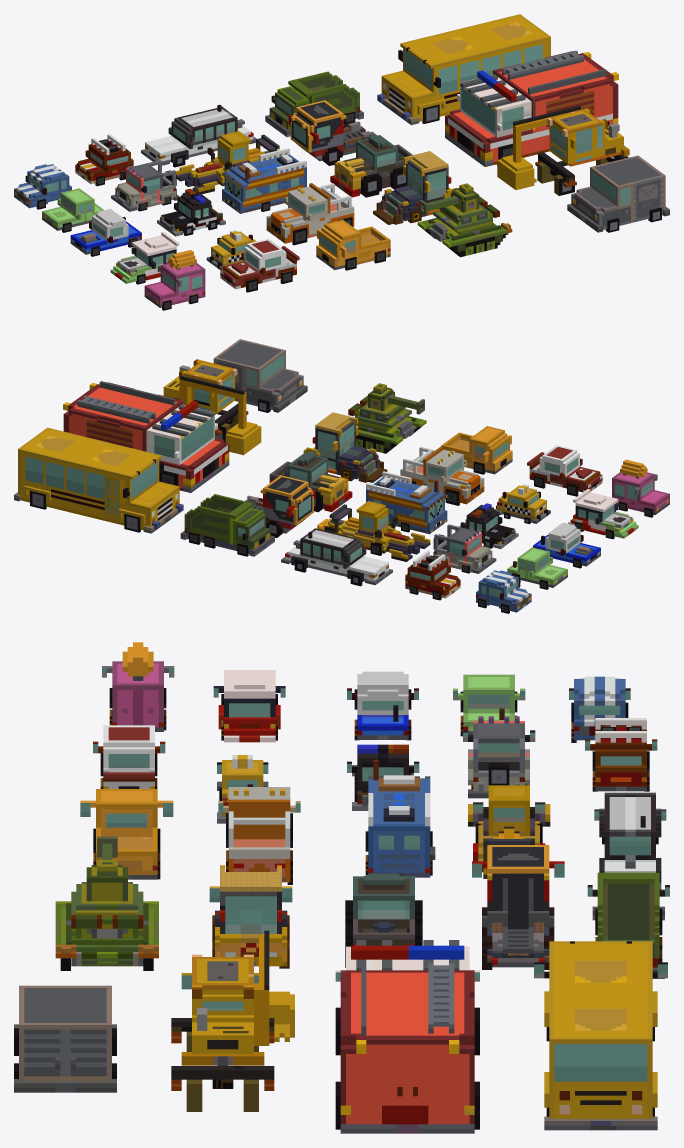
Rendered from 24_Simple_Blocky_Cars_Pack.fbx.
3 views of the same model, one above another, from view 1: azimuth 30°, elevation 25°; view 2: azimuth 150°, elevation 25°; view 3: azimuth 270°, elevation 25° (orthographic). The views are drawn at different scales.
Visible parts, largest first — view 1: Fire_Truck_Car_Body, Bus_Car_Body, Excavator_Car_Body, Mail_Car_Body, Camping_Truck_Body, Tank_Car_Body, Limousine_Car_Body, Tractor_Car_Body, Jeep_Car_Body_2, Tir_Car_Body, Garbage_Truck_Car_Body, Bolid_Car_Body (+13 smaller); view 2: Bus_Car_Body, Fire_Truck_Car_Body, Excavator_Car_Body, Mail_Car_Body, Garbage_Truck_Car_Body, Limousine_Car_Body, Camping_Truck_Body, Bolid_Car_Body, Tractor_Car_Body, Tank_Car_Body, Jeep_Car_Body_2, Tir_Car_Body (+13 smaller); view 3: Fire_Truck_Car_Body, Bus_Car_Body, Excavator_Car_Body, Mail_Car_Body, Tank_Car_Body, Tir_Car_Body, Camping_Truck_Body, Tractor_Car_Body, Jeep_Car_Body_2, Sand_Truck_Car_Body, Garbage_Truck_Car_Body, Limousine_Car_Body (+12 smaller).
Boxes of the visible parts, left/top/right/bottom form: Fire_Truck_Car_Body: left=445, top=50, right=618, bottom=166; Bus_Car_Body: left=377, top=14, right=550, bottom=125; Excavator_Car_Body: left=497, top=105, right=629, bottom=189; Mail_Car_Body: left=567, top=155, right=669, bottom=232; Camping_Truck_Body: left=222, top=148, right=306, bottom=213; Tank_Car_Body: left=417, top=183, right=512, bottom=247; Limousine_Car_Body: left=141, top=104, right=256, bottom=165; Tractor_Car_Body: left=373, top=151, right=456, bottom=224; Jeep_Car_Body_2: left=266, top=183, right=354, bottom=243; Tir_Car_Body: left=288, top=100, right=374, bottom=161; Garbage_Truck_Car_Body: left=265, top=71, right=363, bottom=136; Bolid_Car_Body: left=176, top=131, right=285, bottom=194; Bus_Car_Body: left=14, top=427, right=183, bottom=533; Fire_Truck_Car_Body: left=63, top=381, right=229, bottom=492; Excavator_Car_Body: left=163, top=359, right=261, bottom=455; Mail_Car_Body: left=213, top=339, right=307, bottom=412; Garbage_Truck_Car_Body: left=180, top=494, right=274, bottom=556; Limousine_Car_Body: left=281, top=528, right=392, bottom=585; Camping_Truck_Body: left=366, top=471, right=447, bottom=534; Bolid_Car_Body: left=316, top=501, right=430, bottom=561; Tractor_Car_Body: left=303, top=412, right=387, bottom=482; Tank_Car_Body: left=348, top=383, right=426, bottom=444; Jeep_Car_Body_2: left=400, top=446, right=484, bottom=504; Tir_Car_Body: left=245, top=475, right=315, bottom=533; Fire_Truck_Car_Body: left=335, top=940, right=479, bottom=1133; Bus_Car_Body: left=534, top=941, right=667, bottom=1130; Excavator_Car_Body: left=171, top=930, right=294, bottom=1090; Mail_Car_Body: left=14, top=985, right=116, bottom=1092; Tank_Car_Body: left=55, top=836, right=158, bottom=966; Tir_Car_Body: left=472, top=845, right=564, bottom=967; Camping_Truck_Body: left=368, top=759, right=435, bottom=877; Tractor_Car_Body: left=209, top=865, right=292, bottom=966; Jeep_Car_Body_2: left=218, top=787, right=300, bottom=882; Sand_Truck_Car_Body: left=80, top=789, right=173, bottom=879; Garbage_Truck_Car_Body: left=587, top=872, right=669, bottom=978; Limousine_Car_Body: left=594, top=792, right=666, bottom=889.
Bounding box in the file's own units: 19990 × 2450 × 12726.
2 materials, 2 textured.
